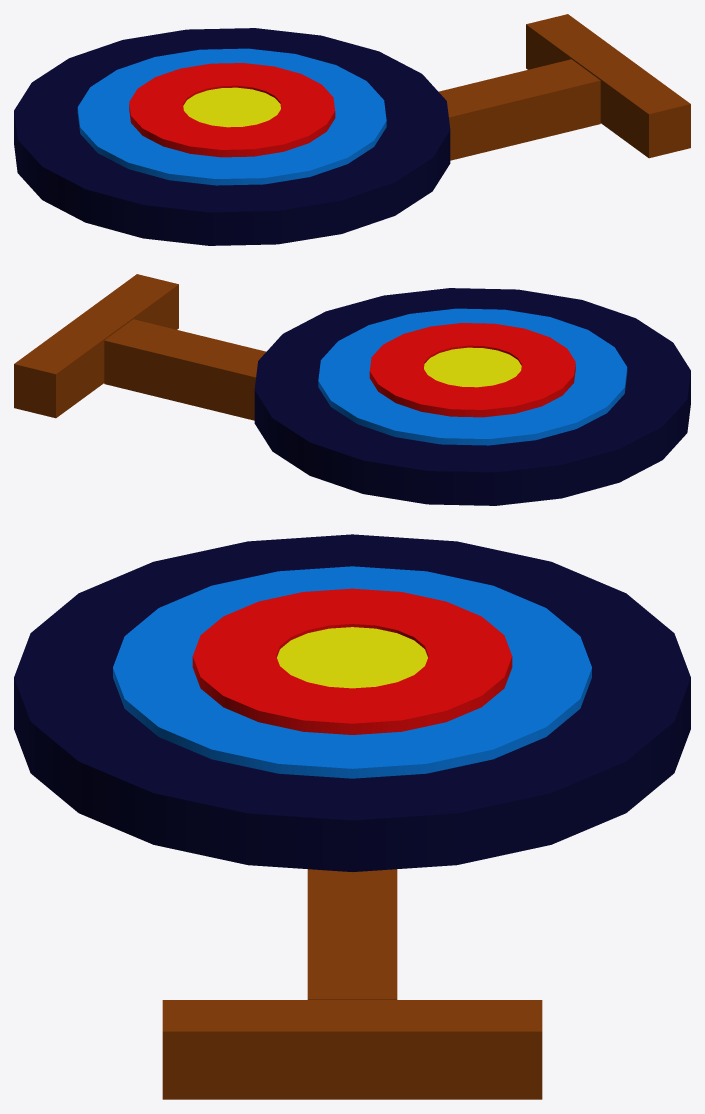
The model's file is archerAim.fbx.
3 views of the same model, one above another, from view 1: azimuth 30°, elevation 25°; view 2: azimuth 150°, elevation 25°; view 3: azimuth 270°, elevation 25° (orthographic). The views are drawn at different scales.
Visible parts, largest first — view 1: pCylinder8, pCylinder9, pCylinder10, pCube1, pCube2, pCylinder5; view 2: pCylinder8, pCylinder9, pCylinder10, pCube1, pCube2, pCylinder5; view 3: pCylinder8, pCylinder9, pCube2, pCylinder10, pCube1, pCylinder5.
Boxes of the visible parts, box(x1,y1,x2,y2) form: pCylinder8: box(14, 28, 450, 245); pCylinder9: box(77, 48, 386, 185); pCylinder10: box(129, 63, 335, 157); pCube1: box(439, 59, 600, 160); pCube2: box(526, 14, 690, 158); pCylinder5: box(183, 87, 280, 127); pCylinder8: box(254, 288, 690, 505); pCylinder9: box(318, 308, 627, 445); pCylinder10: box(369, 323, 575, 417); pCube1: box(104, 319, 265, 420); pCube2: box(14, 274, 178, 418); pCylinder5: box(424, 347, 521, 387); pCylinder8: box(14, 534, 690, 871); pCylinder9: box(113, 566, 591, 778); pCube2: box(162, 1000, 542, 1099); pCylinder10: box(192, 588, 512, 734); pCube1: box(307, 869, 397, 999); pCylinder5: box(277, 627, 427, 688).
Bounding box in the file's own units: 13.95 × 2.12 × 9.03.
